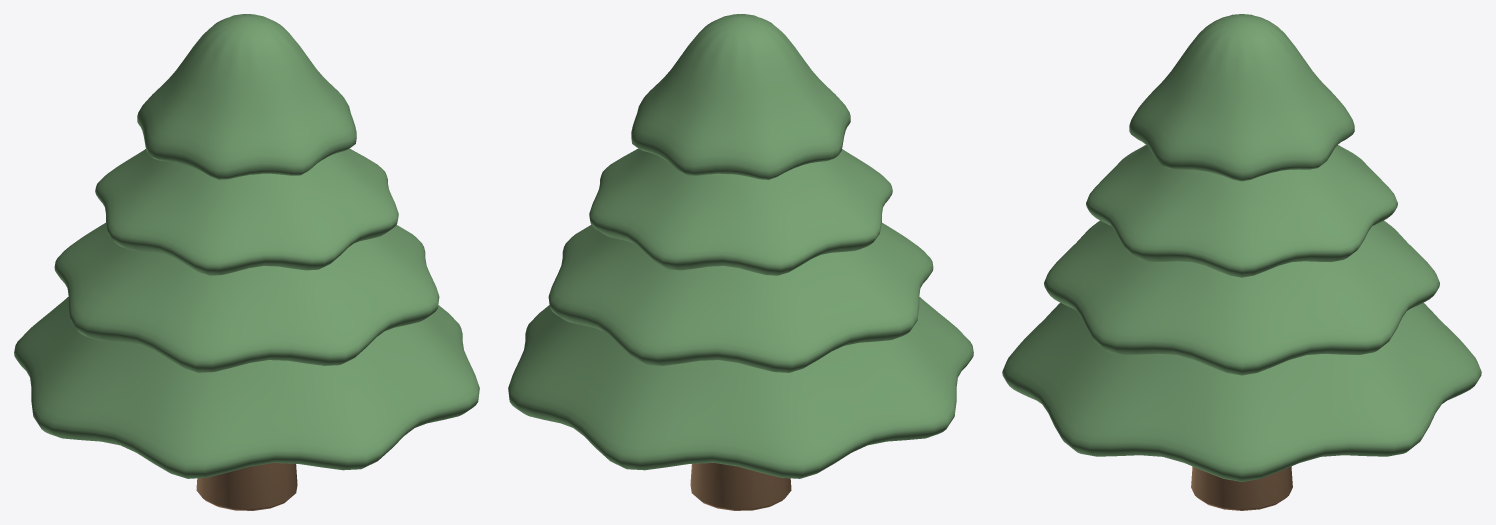
The model's file is tree3.fbx.
The picture shows the model from 3 angles, left to right: view 1: azimuth 30°, elevation 25°; view 2: azimuth 150°, elevation 25°; view 3: azimuth 270°, elevation 25°; orthographic projection.
Parts seen in each view (by area): view 1: tree3; view 2: tree3; view 3: tree3.
Part boxes in pixels (x1,y1,x2,y2): tree3: (14,14,479,510); tree3: (508,14,973,510); tree3: (1002,14,1481,510).
Size of the model in its own units: 520 by 566 by 520.
